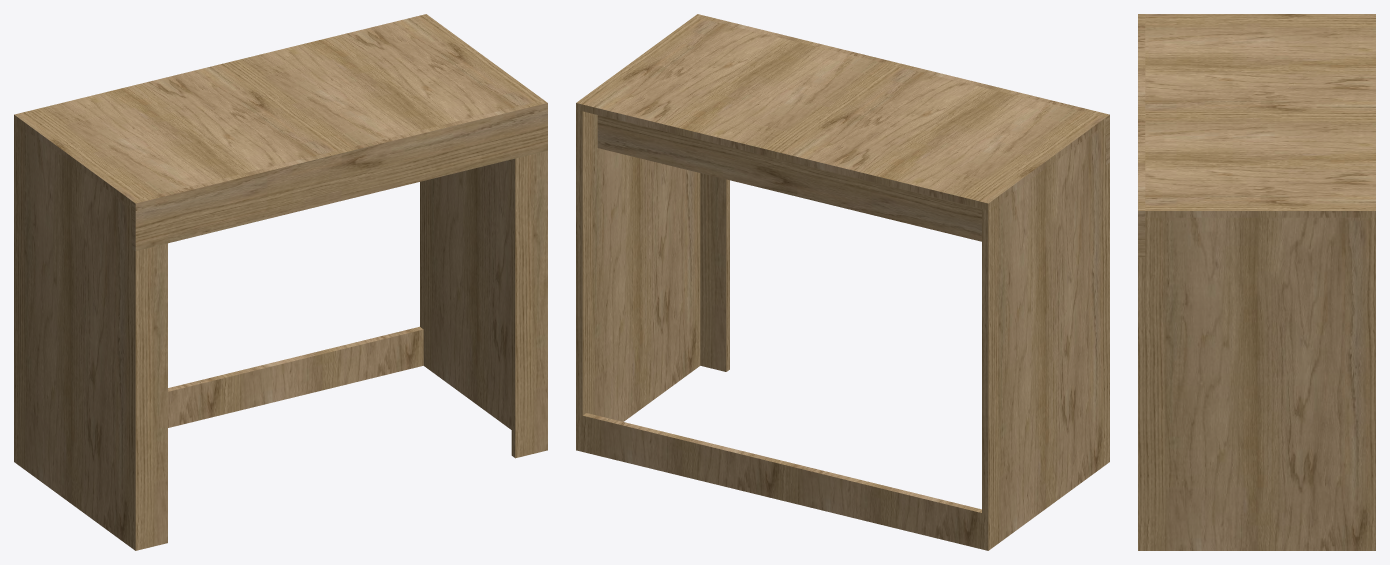
The model's file is Mesa.glb.
The picture shows the model from 3 angles, left to right: view 1: azimuth 30°, elevation 25°; view 2: azimuth 150°, elevation 25°; view 3: azimuth 270°, elevation 25°; orthographic projection. The views are drawn at different scales.
Parts seen in each view (by area): view 1: Corpo9, Corpo4, Corpo10, Corpo5, Corpo7, Corpo6, Corpo1; view 2: Corpo9, Corpo4, Corpo5, Corpo1, Corpo8, Corpo7, Corpo10, Corpo6; view 3: Corpo5, Corpo9, Corpo7, Corpo10.
Part boxes in pixels (x1,y1,x2,y2): Corpo9: (14, 14, 543, 207); Corpo4: (14, 121, 131, 547); Corpo10: (132, 100, 547, 250); Corpo5: (420, 160, 511, 429); Corpo7: (511, 150, 547, 458); Corpo6: (132, 243, 167, 550); Corpo1: (168, 326, 423, 427); Corpo9: (576, 17, 1105, 210); Corpo4: (982, 124, 1105, 550); Corpo5: (576, 110, 700, 451); Corpo1: (582, 413, 981, 549); Corpo8: (597, 115, 981, 241); Corpo7: (700, 173, 729, 371); Corpo10: (694, 14, 1109, 164); Corpo6: (1106, 162, 1109, 464); Corpo5: (1145, 217, 1375, 550); Corpo9: (1145, 14, 1375, 217); Corpo7: (1138, 257, 1145, 550); Corpo10: (1138, 14, 1145, 257).
Size of the model in its own units: 0.95 by 0.765 by 0.485.
1 material, 1 textured.
